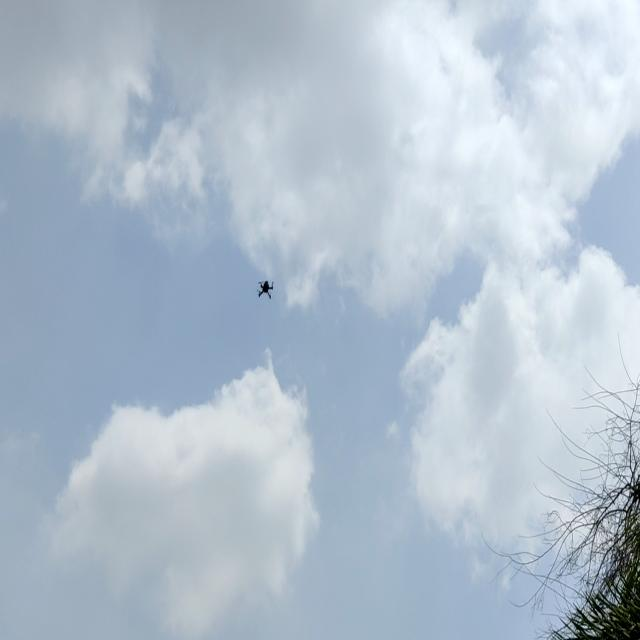drone: (253, 271, 282, 303)
